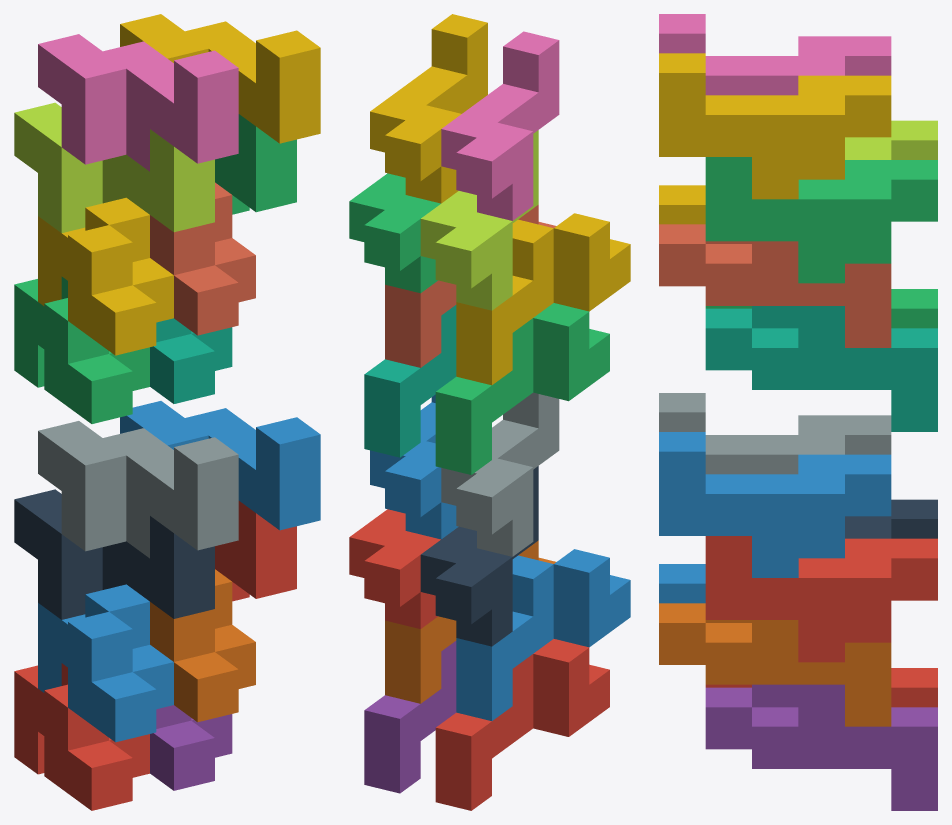
File: tiling.obj
3 renders of one model, left to right at view 1: azimuth 30°, elevation 25°; view 2: azimuth 150°, elevation 25°; view 3: azimuth 270°, elevation 25°, orthographic. The views are drawn at different scales.
Parts seen in each view (by area): view 1: copy_2_domain_2, copy_2_domain_4, copy_1_domain_4, copy_1_domain_2, copy_2_domain_3, copy_2_domain_1, copy_2_domain_8, copy_2_domain_6, copy_1_domain_1, copy_1_domain_3, copy_1_domain_6, copy_1_domain_8 (+4 smaller); view 2: copy_1_domain_2, copy_1_domain_4, copy_2_domain_4, copy_1_domain_1, copy_1_domain_3, copy_2_domain_8, copy_2_domain_2, copy_2_domain_3, copy_2_domain_1, copy_1_domain_7, copy_1_domain_5, copy_2_domain_7 (+4 smaller); view 3: copy_2_domain_8, copy_2_domain_6, copy_2_domain_5, copy_2_domain_7, copy_1_domain_5, copy_1_domain_7, copy_1_domain_8, copy_1_domain_6, copy_2_domain_4, copy_2_domain_2, copy_2_domain_1, copy_2_domain_3 (+4 smaller).
Boxes of the visible parts, x1,y1,x2,y2 form: copy_2_domain_2: (38, 421, 238, 558); copy_2_domain_4: (38, 34, 238, 171); copy_1_domain_4: (38, 197, 173, 355); copy_1_domain_2: (38, 584, 173, 742); copy_2_domain_3: (14, 102, 214, 232); copy_2_domain_1: (14, 489, 214, 619); copy_2_domain_8: (120, 14, 320, 143); copy_2_domain_6: (120, 401, 320, 530); copy_1_domain_1: (14, 663, 149, 810); copy_1_domain_3: (14, 276, 149, 423); copy_1_domain_6: (150, 569, 255, 722); copy_1_domain_8: (150, 182, 255, 335); copy_1_domain_2: (456, 549, 630, 720); copy_1_domain_4: (456, 213, 630, 385); copy_2_domain_4: (441, 31, 559, 220); copy_1_domain_1: (435, 639, 609, 810); copy_1_domain_3: (435, 303, 609, 474); copy_2_domain_8: (370, 14, 487, 203); copy_2_domain_2: (441, 392, 559, 556); copy_2_domain_3: (420, 130, 538, 310); copy_2_domain_1: (420, 466, 538, 646); copy_1_domain_7: (364, 305, 456, 457); copy_1_domain_5: (364, 641, 456, 793); copy_2_domain_7: (349, 173, 440, 293); copy_2_domain_8: (659, 53, 891, 199); copy_2_domain_6: (659, 432, 891, 577); copy_2_domain_5: (705, 536, 937, 662); copy_2_domain_7: (705, 157, 937, 283); copy_1_domain_5: (705, 684, 937, 810); copy_1_domain_7: (705, 306, 937, 431); copy_1_domain_8: (659, 224, 891, 347); copy_1_domain_6: (659, 603, 891, 726); copy_2_domain_4: (659, 14, 891, 95); copy_2_domain_2: (659, 393, 891, 474); copy_2_domain_1: (845, 499, 937, 538); copy_2_domain_3: (845, 120, 937, 159).
Bounding box in the file's own units: 5 × 18 × 6.
